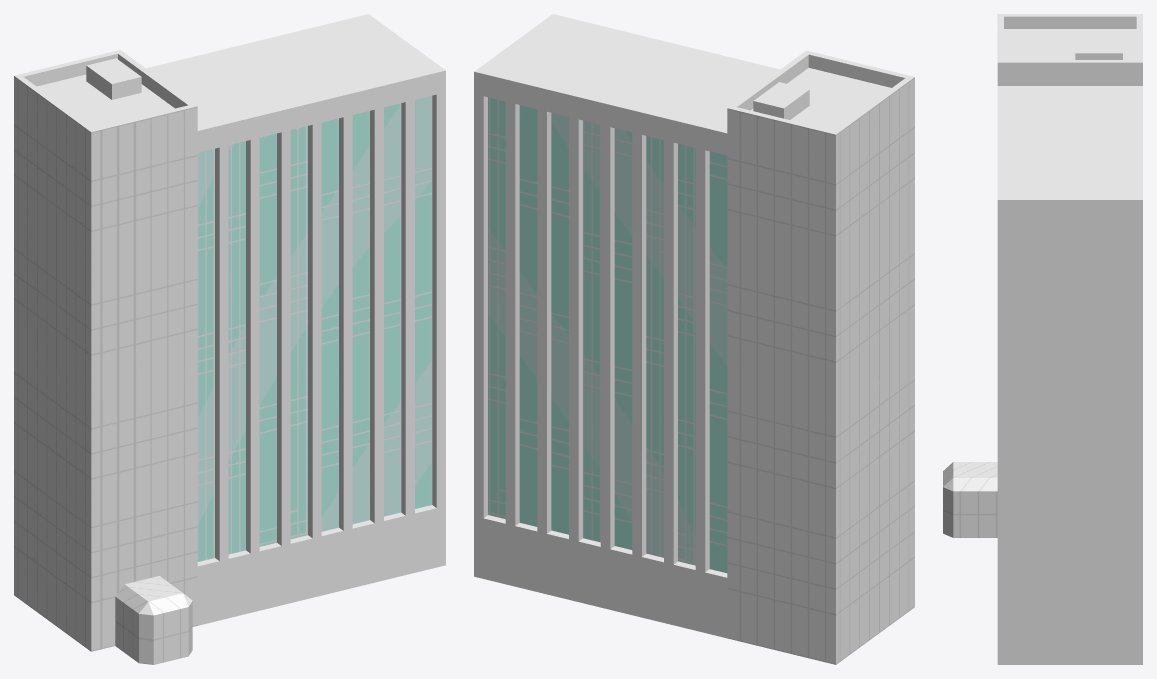
File: Skyscraper 3_noGround.fbx
The picture shows the model from 3 angles, left to right: view 1: azimuth 30°, elevation 25°; view 2: azimuth 150°, elevation 25°; view 3: azimuth 270°, elevation 25°; orthographic projection. The views are drawn at different scales.
Visible parts, largest first — view 1: Cube.014; view 2: Cube.014; view 3: Cube.014.
Part boxes in pixels (box(x1,y1,x2,y2)): Cube.014: box(14, 14, 445, 664); Cube.014: box(474, 14, 914, 664); Cube.014: box(943, 14, 1142, 664).
Size of the model in its own units: 150 by 211 by 77.89.
